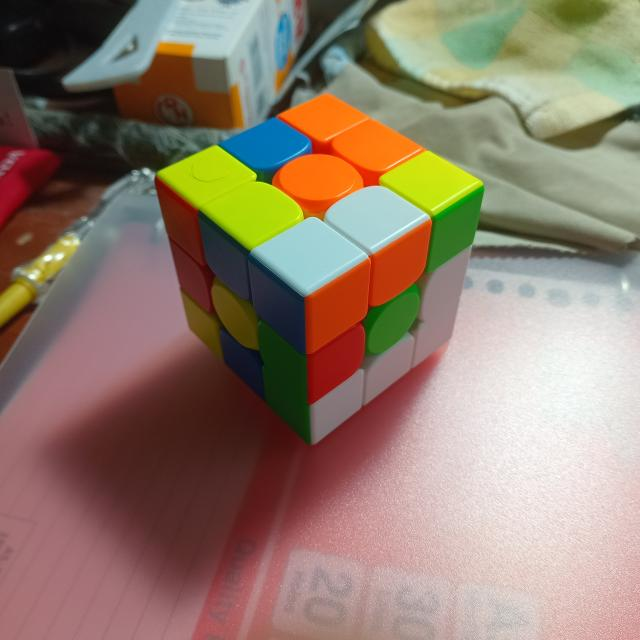down: (155, 175, 311, 444)
front: (305, 185, 484, 444)
left: (156, 94, 483, 297)
rubik: (151, 91, 487, 450)
